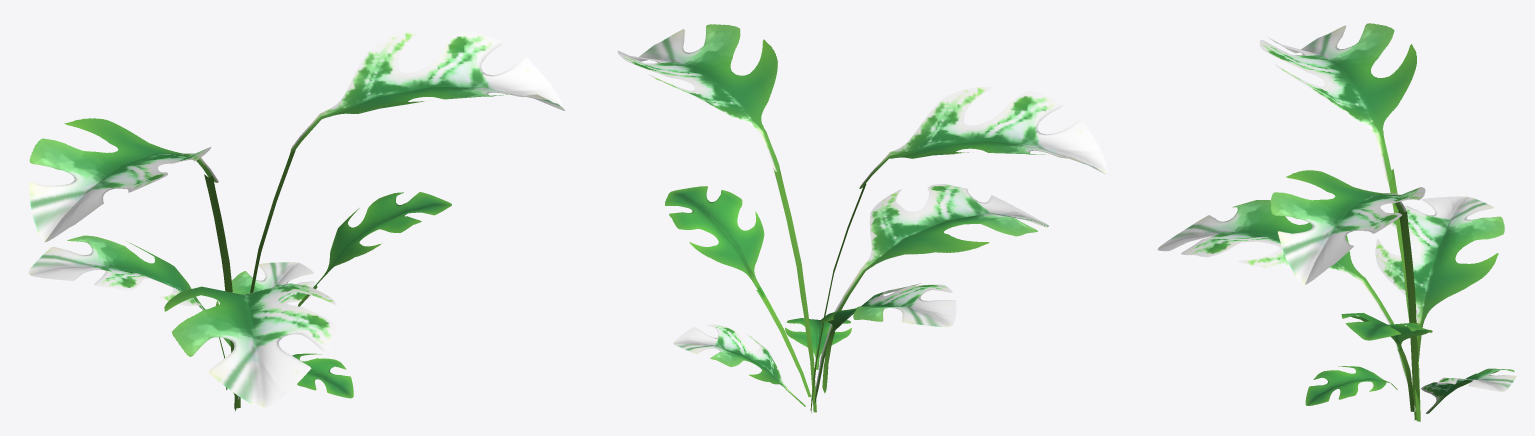
The model's file is AlboMonstera.fbx.
3 views of the same model, side by side, from view 1: azimuth 30°, elevation 25°; view 2: azimuth 150°, elevation 25°; view 3: azimuth 270°, elevation 25° (orthographic). The views are drawn at different scales.
Visible parts, largest first — view 1: Red Monstera.002; view 2: Red Monstera.002; view 3: Red Monstera.002.
Part boxes in pixels (x1=…): Red Monstera.002: x1=28, y1=29, x2=565, y2=411; Red Monstera.002: x1=617, y1=24, x2=1107, y2=412; Red Monstera.002: x1=1157, y1=23, x2=1516, y2=421.
Bounding box in the file's own units: 213 × 129 × 139.
1 material, 1 textured.
